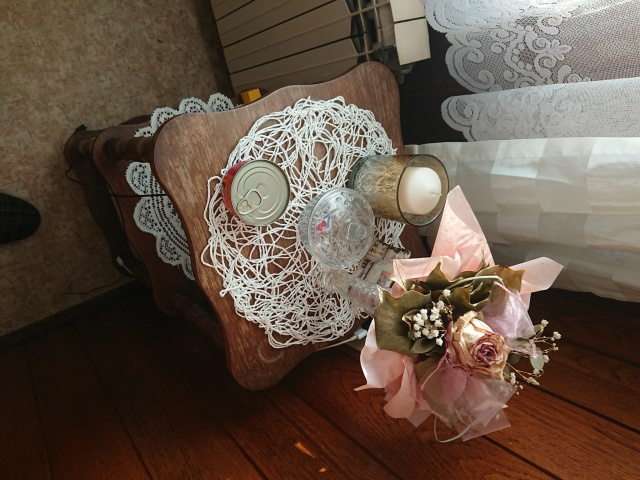Gavrilovic Pork Liver Pate 100g: (219, 157, 292, 227)
